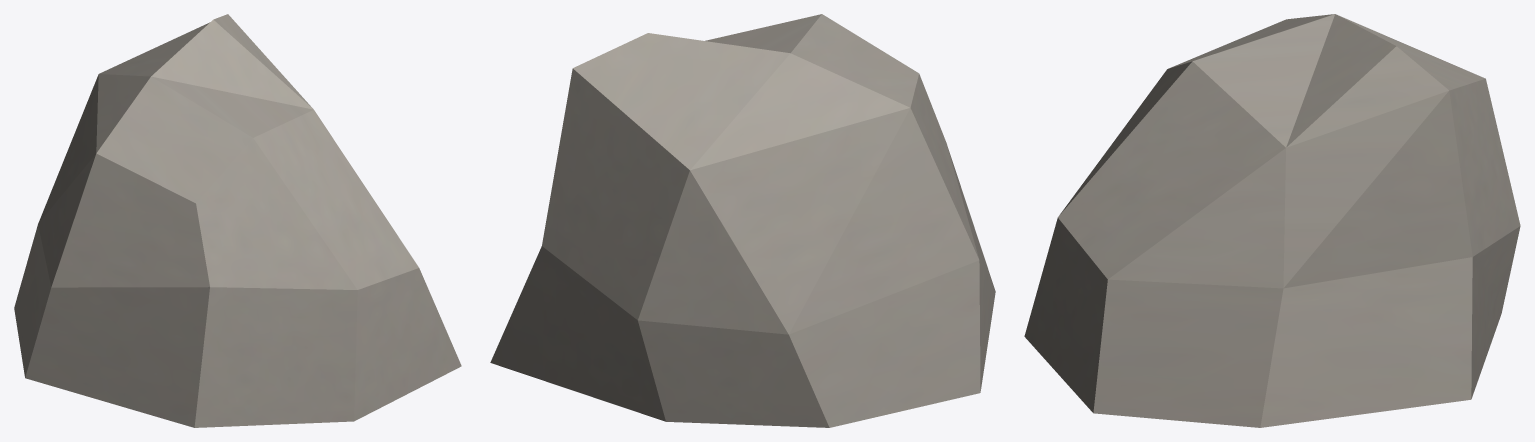
File: Rock_B.obj
3 renders of one model, left to right at view 1: azimuth 30°, elevation 25°; view 2: azimuth 150°, elevation 25°; view 3: azimuth 270°, elevation 25°, orthographic. The views are drawn at different scales.
Visible parts, largest first — view 1: Rock_B; view 2: Rock_B; view 3: Rock_B.
Part boxes in pixels (x1,y1,x2,y2): Rock_B: [14, 14, 461, 427]; Rock_B: [490, 14, 995, 427]; Rock_B: [1024, 14, 1520, 427].
Bounding box in the file's own units: 0.8486 × 0.5994 × 0.8806.
